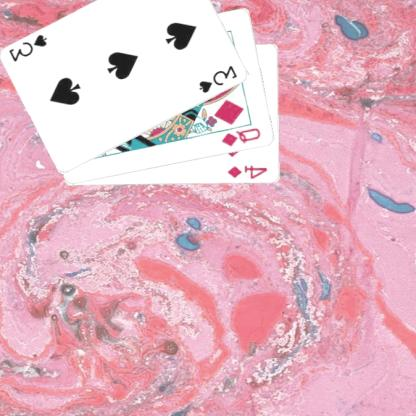3S: (198, 62, 241, 95), (8, 31, 51, 64)
4D: (227, 163, 271, 180)
QD: (220, 125, 264, 148)
